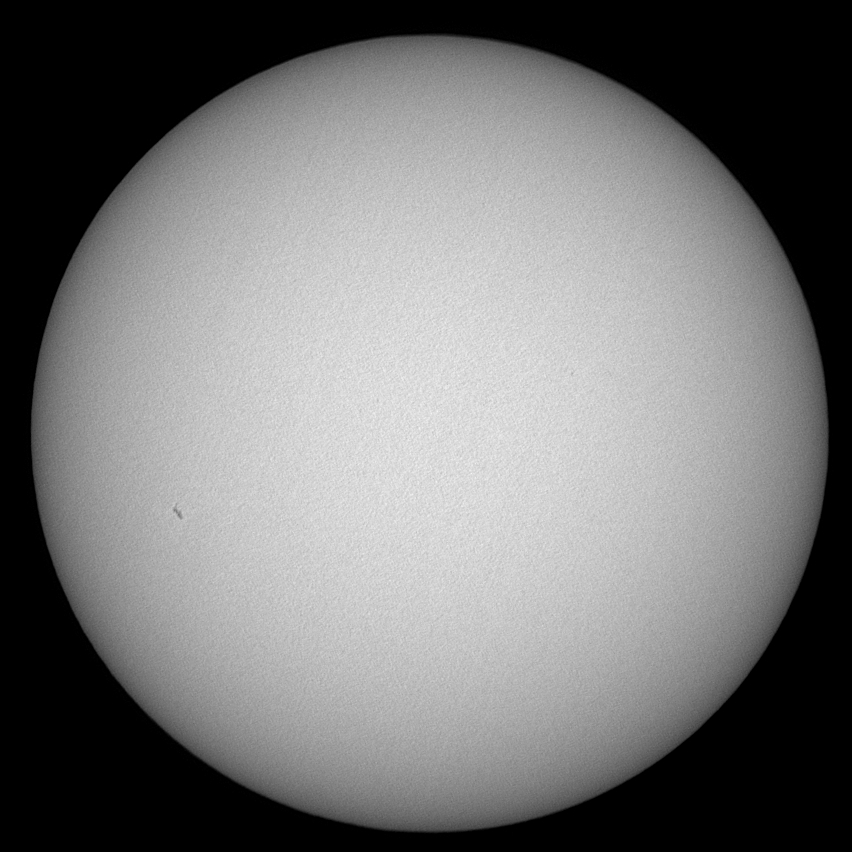sunspot: (167, 500, 185, 520)
